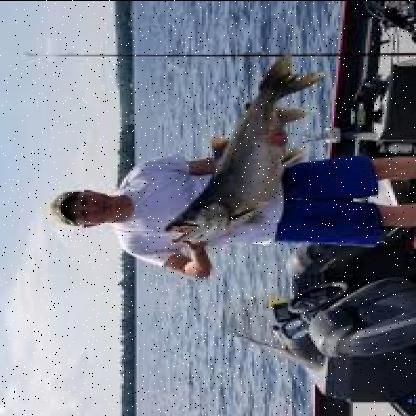fish: (166, 49, 324, 247)
